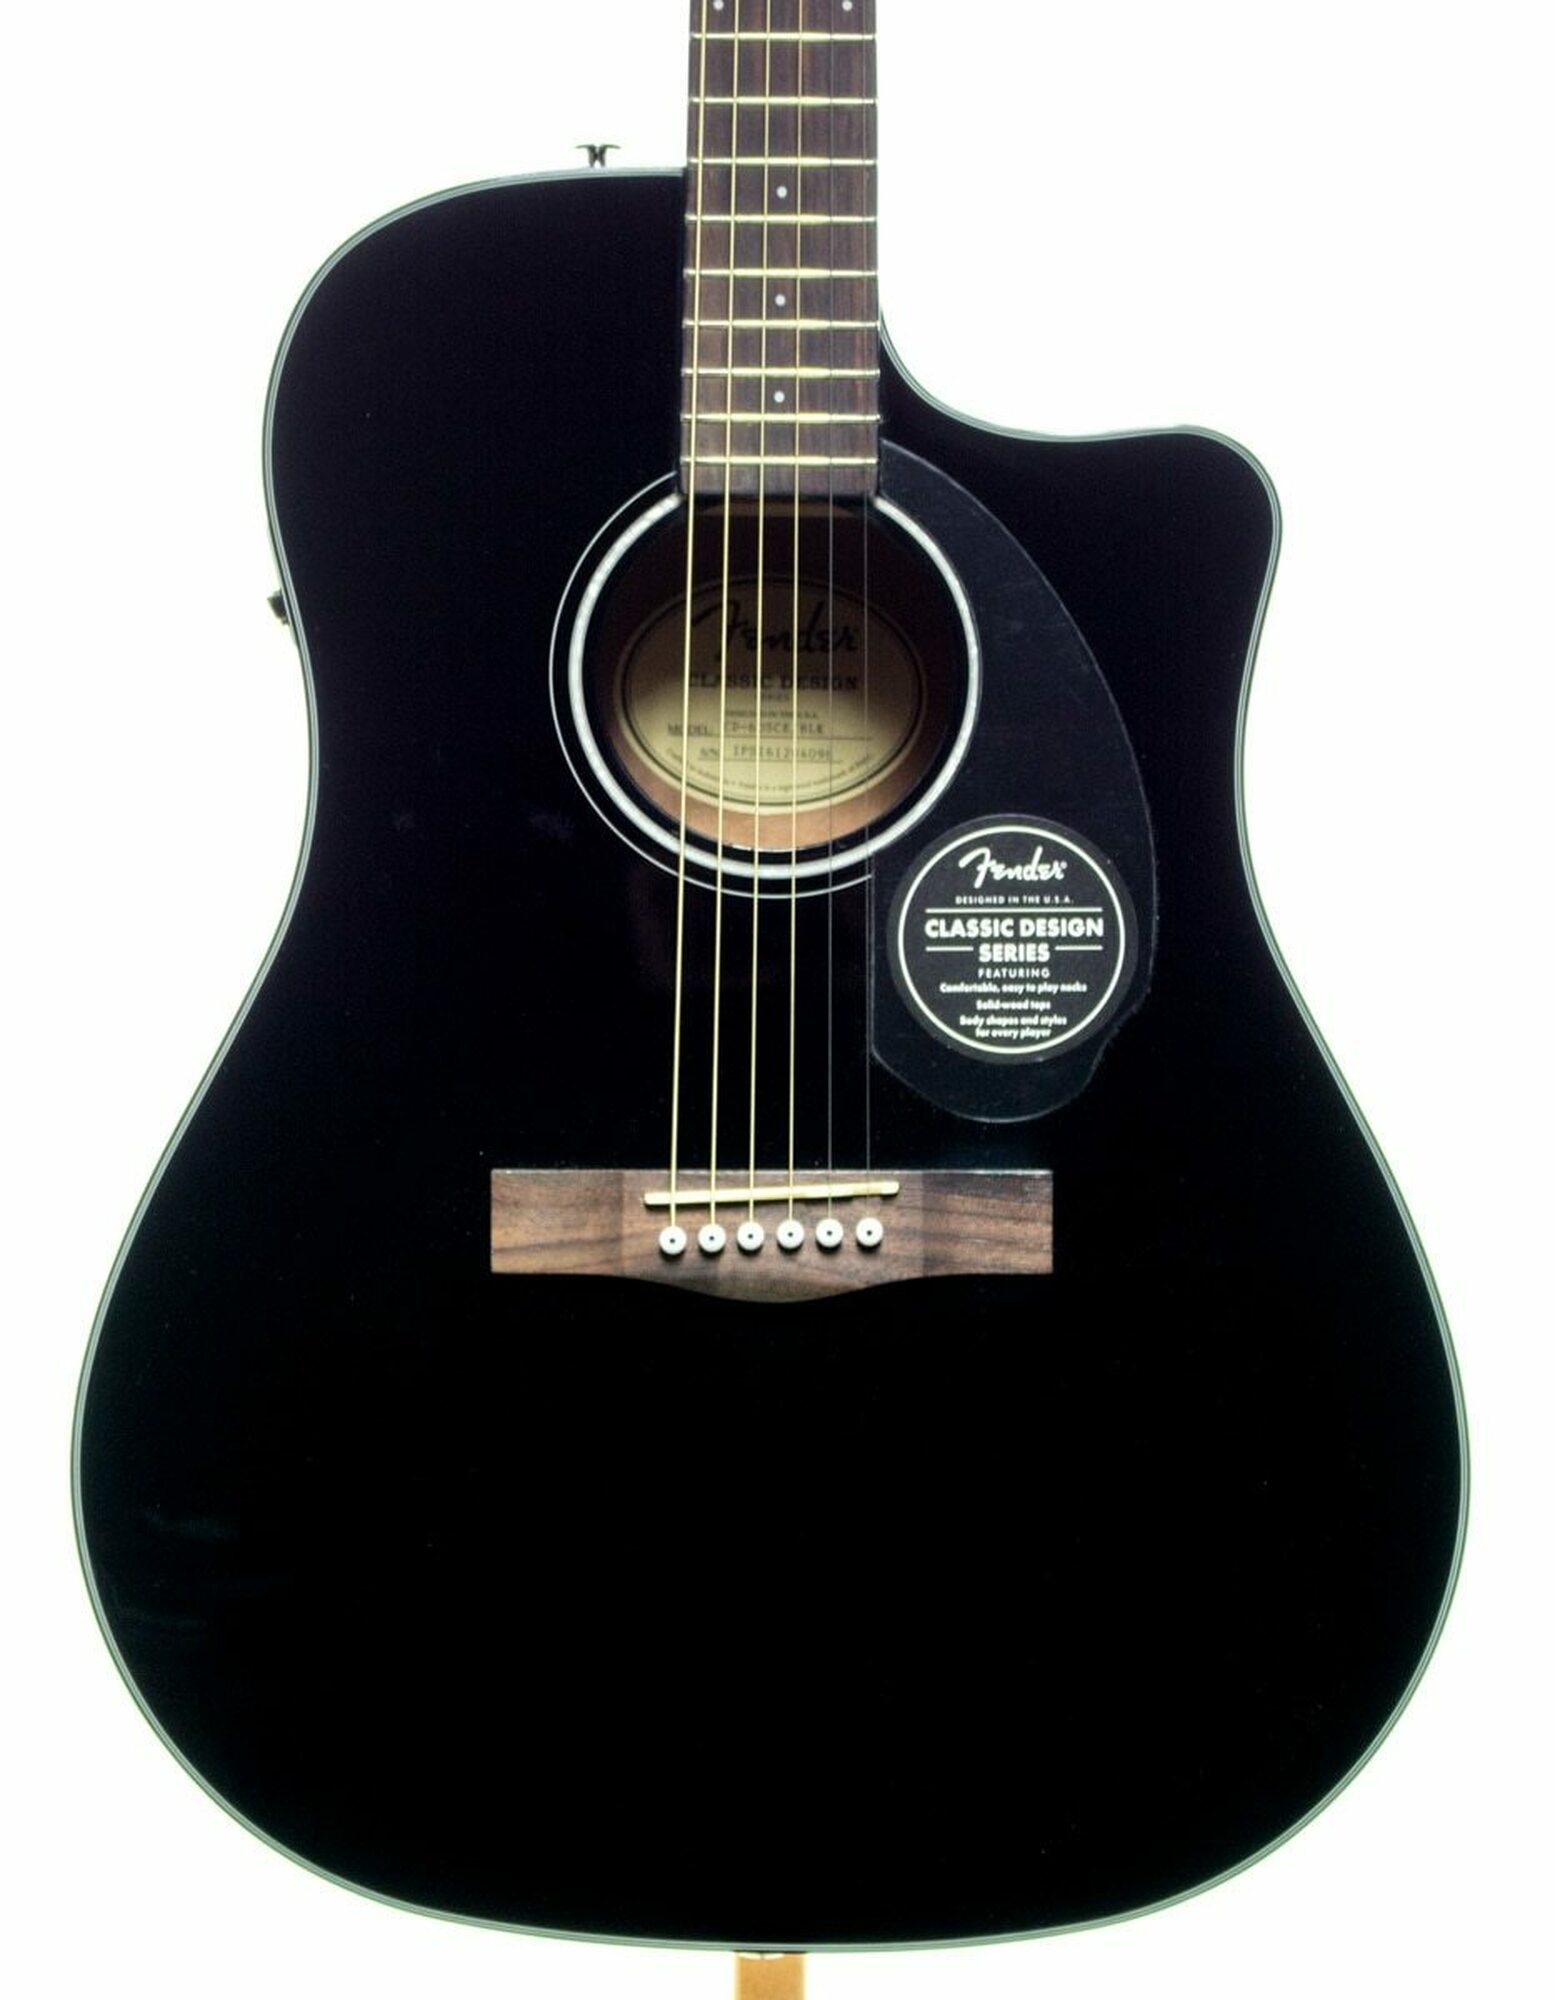guitar: (39, 2, 1501, 1946)
